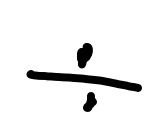div: (26, 43, 142, 113)
